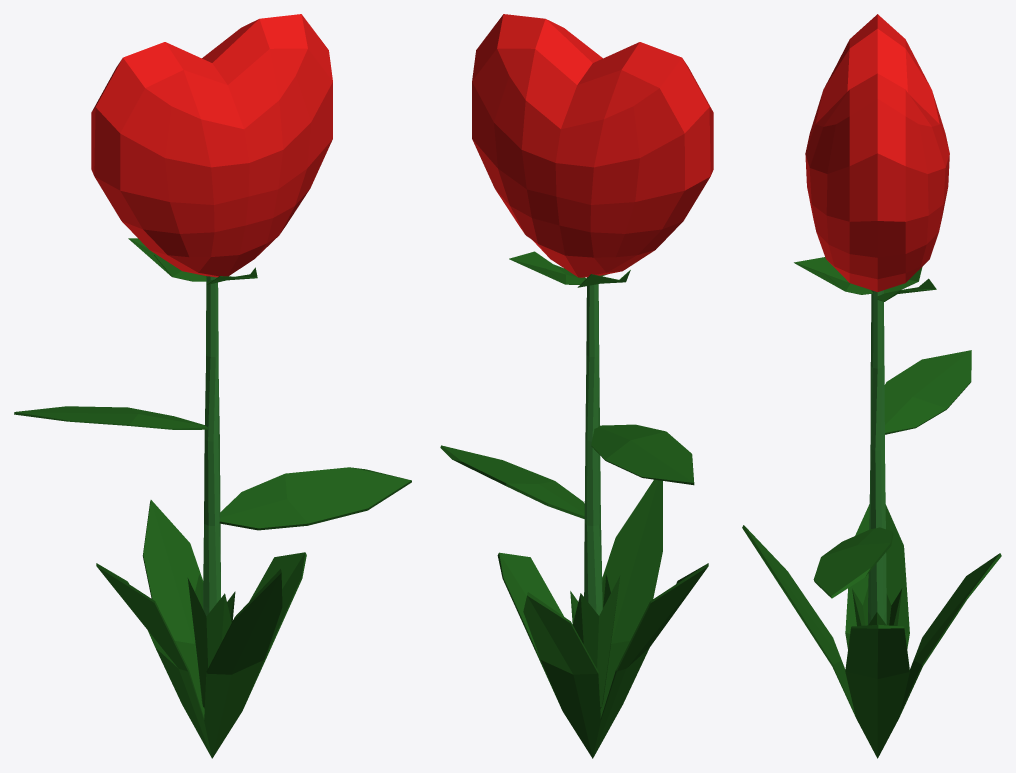
Rendered from HeartFlower 2.fbx.
3 renders of one model, left to right at view 1: azimuth 30°, elevation 25°; view 2: azimuth 150°, elevation 25°; view 3: azimuth 270°, elevation 25°, orthographic. The views are drawn at different scales.
Parts seen in each view (by area): view 1: HeartFlower.2; view 2: HeartFlower.2; view 3: HeartFlower.2.
Part boxes in pixels (x1,y1,x2,y2): HeartFlower.2: (14, 14, 411, 758); HeartFlower.2: (440, 14, 713, 758); HeartFlower.2: (742, 14, 1001, 758).
Bounding box in the file's own units: 54.72 × 117 × 38.88.
